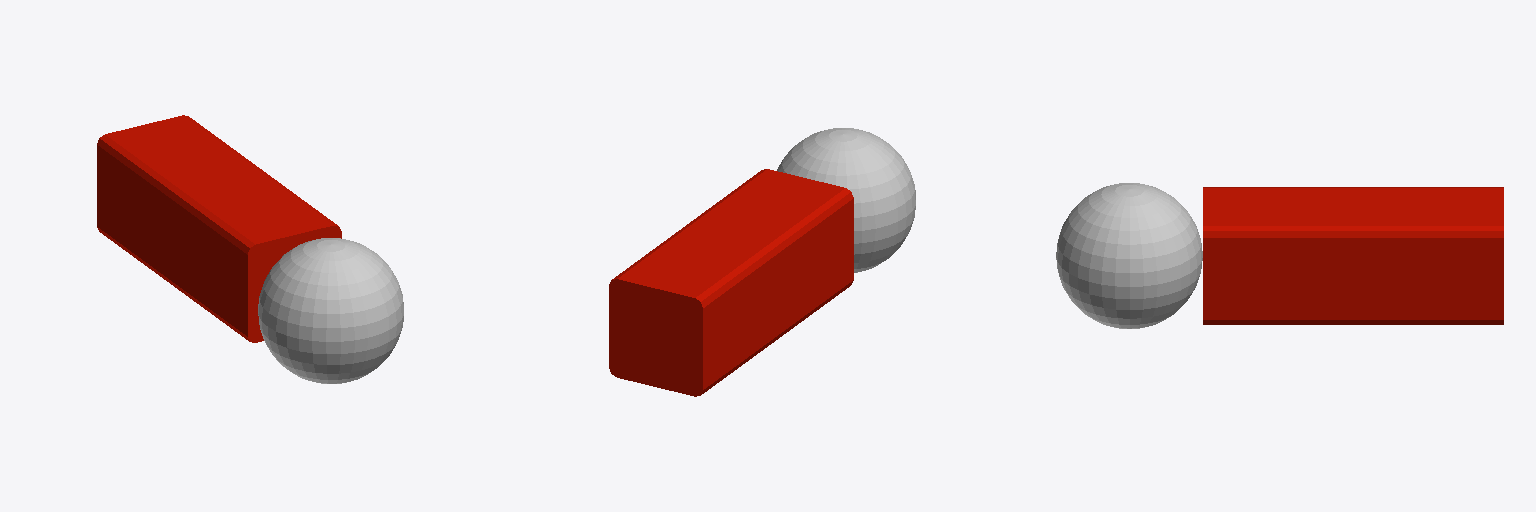
Rendered from doggo_texture_v2.obj.
The picture shows the model from 3 angles: view 1: azimuth 30°, elevation 25°; view 2: azimuth 150°, elevation 25°; view 3: azimuth 270°, elevation 25°; orthographic projection.
Parts seen in each view (by area): view 1: Body_Cube, Sphere; view 2: Body_Cube, Sphere; view 3: Body_Cube, Sphere.
Boxes of the visible parts, box(x1,y1,x2,y2) form: Body_Cube: box(97, 115, 341, 342); Sphere: box(258, 238, 403, 383); Body_Cube: box(609, 169, 853, 396); Sphere: box(777, 128, 915, 272); Body_Cube: box(1203, 187, 1503, 324); Sphere: box(1056, 183, 1202, 328).
Size of the model in its own units: 2.7 by 2.7 by 8.23.